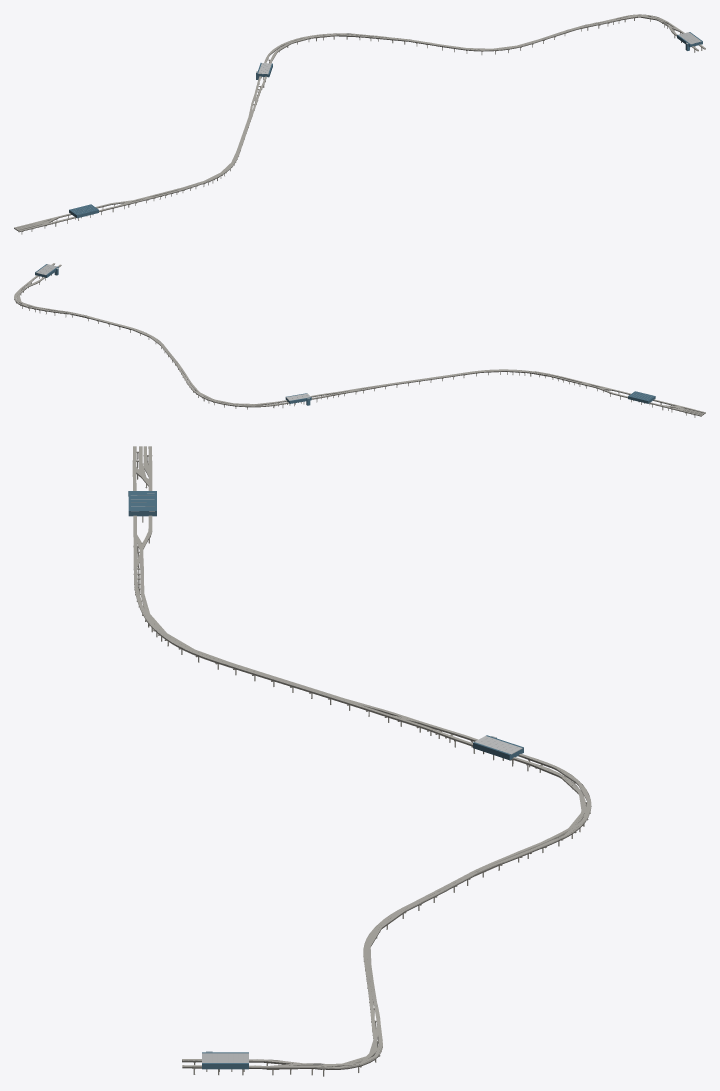
Rendered from atl-skytrain.glb.
The picture shows the model from 3 angles, top to bottom: view 1: azimuth 30°, elevation 25°; view 2: azimuth 150°, elevation 25°; view 3: azimuth 270°, elevation 25°; orthographic projection. The views are drawn at different scales.
Parts seen in each view (by area): view 1: lod2_lm_stone, lod1_lm_stone, lod0_lm_stone; view 2: lod2_lm_stone, lod1_lm_stone, lod0_lm_stone; view 3: lod2_lm_stone, lod1_lm_stone, lod0_lm_stone.
Part boxes in pixels (left/top/right/bottom): lod2_lm_stone: left=18, top=15, right=705, bottom=231; lod1_lm_stone: left=14, top=14, right=705, bottom=231; lod0_lm_stone: left=14, top=14, right=705, bottom=234; lod2_lm_stone: left=14, top=263, right=705, bottom=412; lod1_lm_stone: left=14, top=264, right=705, bottom=415; lod0_lm_stone: left=14, top=263, right=705, bottom=417; lod2_lm_stone: left=128, top=446, right=590, bottom=1069; lod1_lm_stone: left=132, top=446, right=590, bottom=1074; lod0_lm_stone: left=132, top=446, right=591, bottom=1076.
Size of the model in its own units: 1832 by 25.86 by 572.
